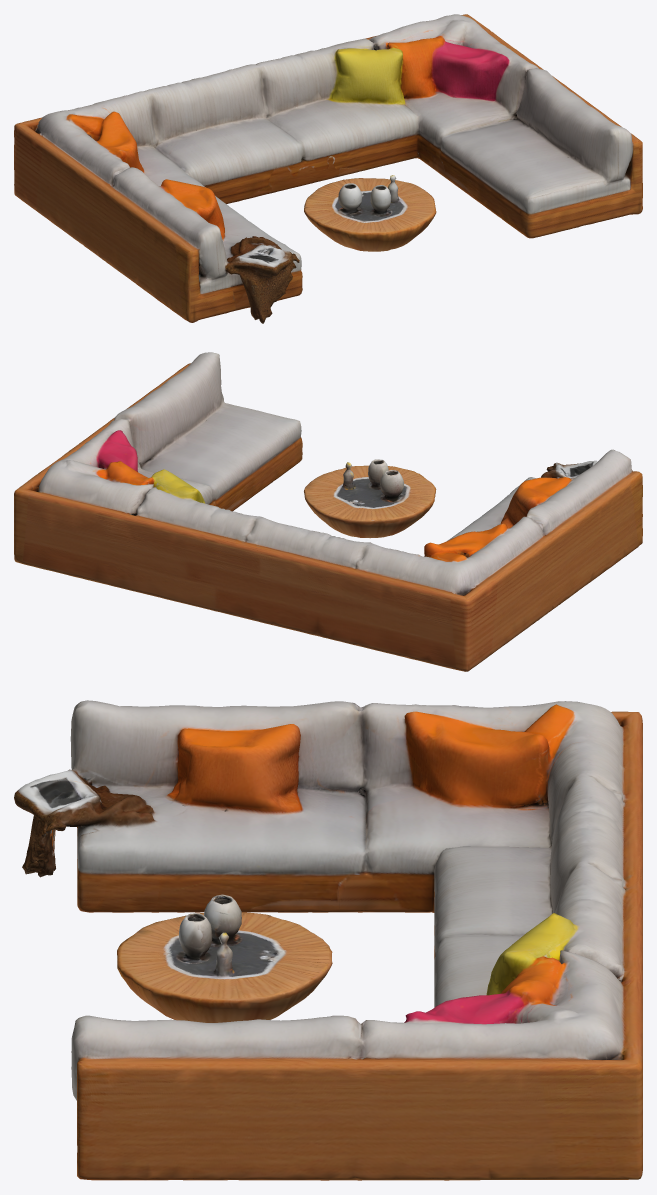
Rendered from sea.glb.
The picture shows the model from 3 angles, top to bottom: view 1: azimuth 30°, elevation 25°; view 2: azimuth 150°, elevation 25°; view 3: azimuth 270°, elevation 25°; orthographic projection. The views are drawn at different scales.
Size of the model in its own units: 1.92 by 0.3722 by 1.43.
1 material, 1 textured.
